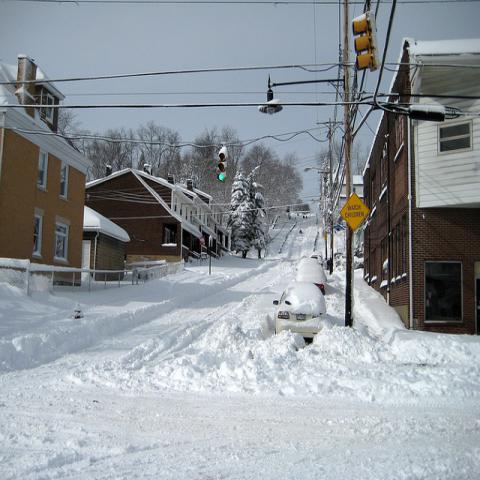car: (272, 280, 327, 344), (298, 258, 329, 294)
